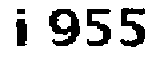5: (83, 6, 116, 52), (122, 5, 151, 52)
9: (45, 6, 80, 52)
i: (9, 6, 34, 54)
